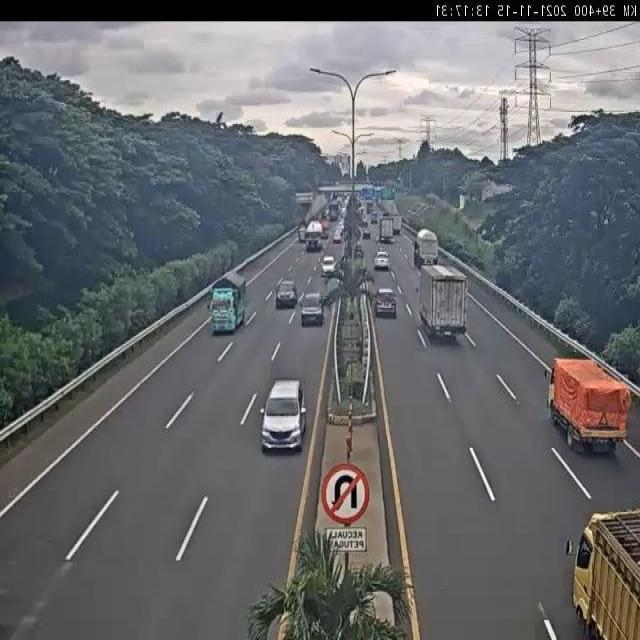Car: (258, 378, 307, 454), (299, 291, 325, 326), (374, 288, 398, 319), (274, 279, 298, 309), (320, 255, 338, 277), (372, 250, 390, 270), (298, 226, 306, 243), (333, 232, 342, 244), (362, 228, 371, 239)
Truck: (565, 506, 640, 640), (544, 356, 634, 454), (413, 262, 468, 344), (206, 271, 246, 335), (414, 224, 440, 266), (306, 219, 324, 251), (378, 217, 393, 243), (391, 214, 403, 235), (371, 210, 380, 224), (366, 201, 374, 212)
